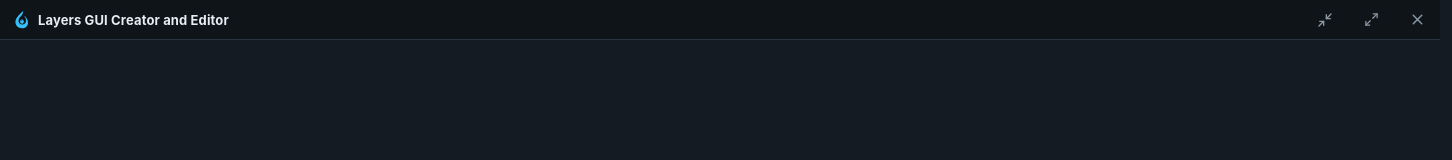
Test: switches the uncontrolled maximize action to Restore after toggling
Click the button named "Maximize window" at (1371, 20), box [1348,12,1394,27]
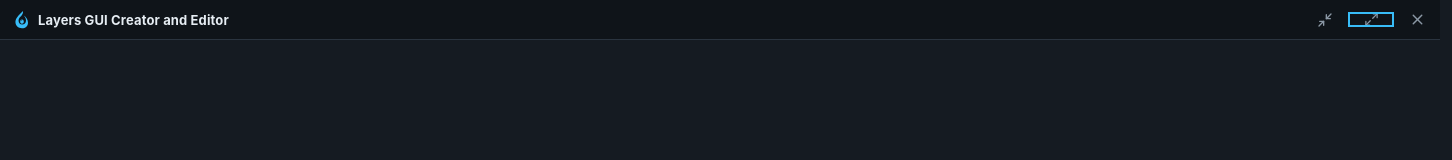
Expected: the button named "Restore window" is shown, [1348,12,1394,27]
